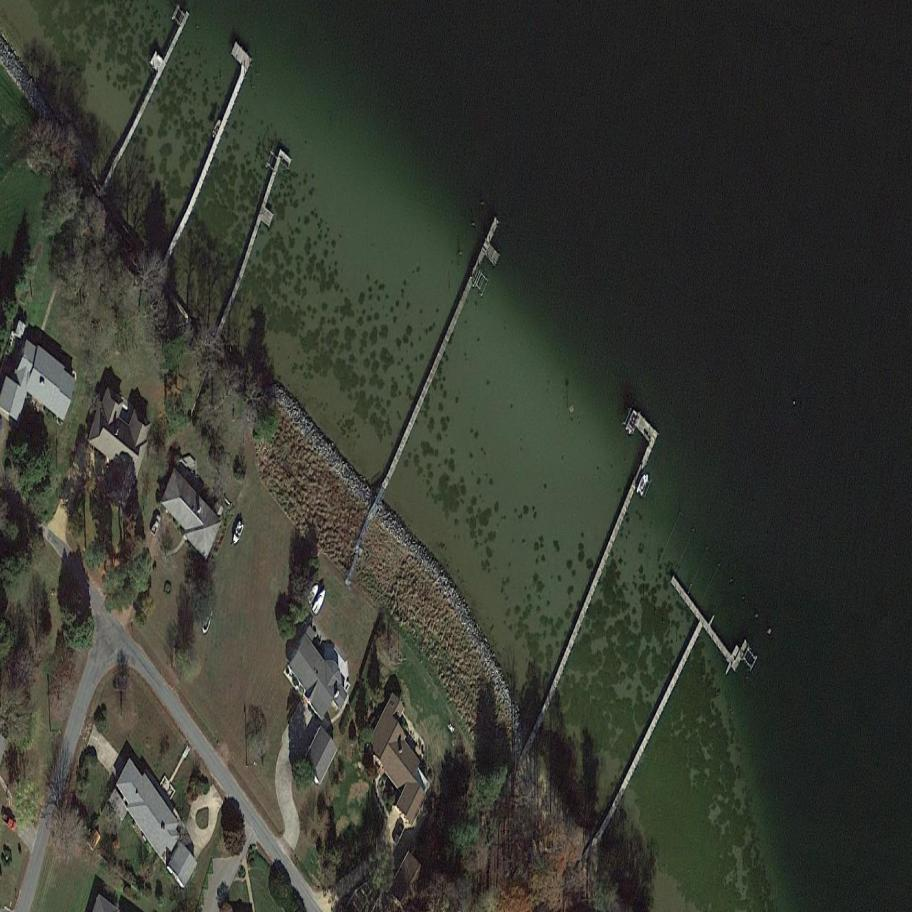ship: (307, 583, 330, 619), (229, 517, 247, 550), (303, 579, 322, 608), (199, 605, 215, 635), (636, 472, 652, 499)
small-vehicle: (145, 510, 165, 541), (391, 821, 407, 845)
